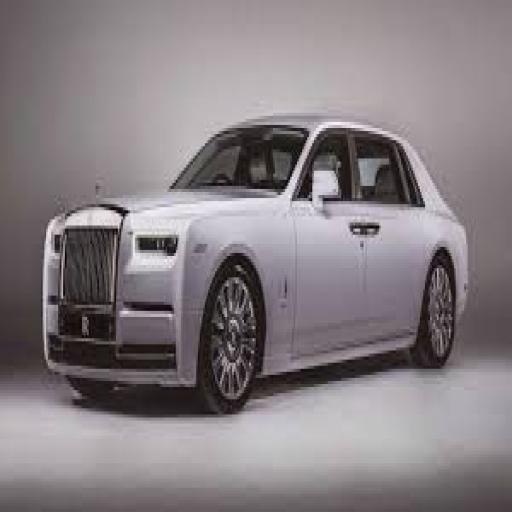car: (28, 34, 478, 450)
